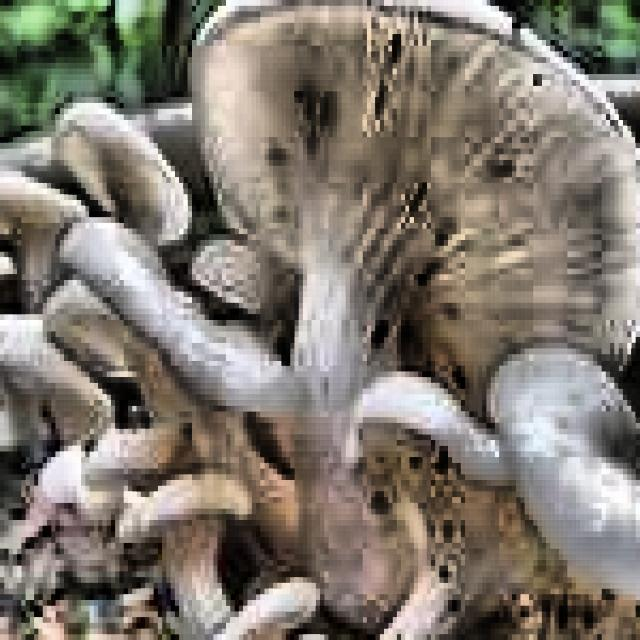Healthy: (302, 9, 545, 338), (66, 259, 263, 506)
